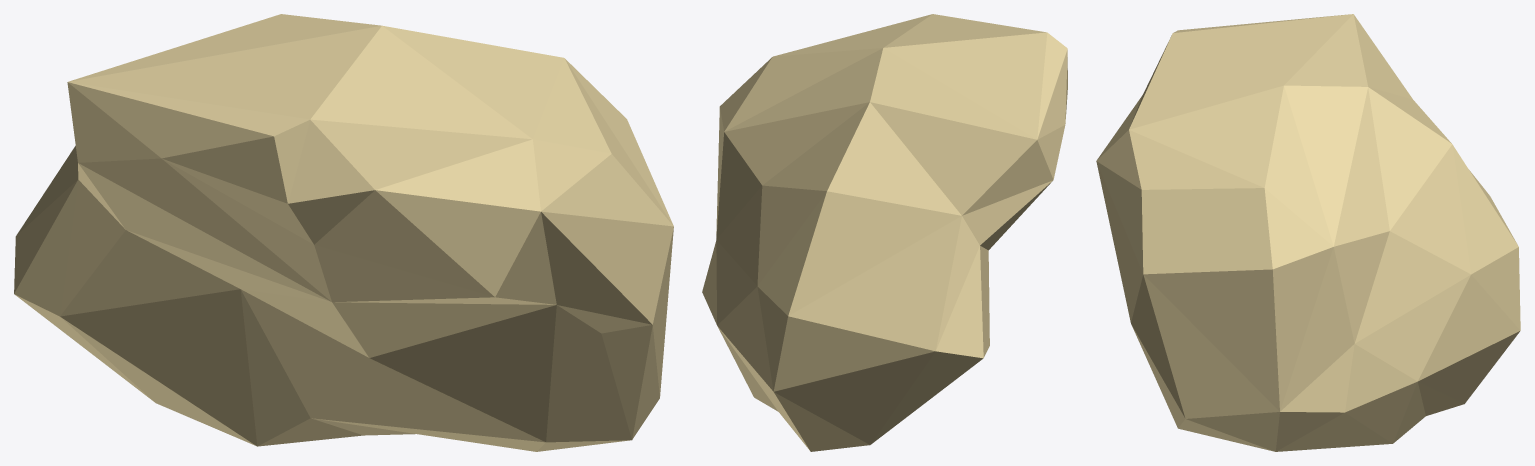
Rendered from Rock (24).fbx.
3 views of the same model, side by side, from view 1: azimuth 30°, elevation 25°; view 2: azimuth 150°, elevation 25°; view 3: azimuth 270°, elevation 25° (orthographic). The views are drawn at different scales.
Parts seen in each view (by area): view 1: Asteroid23; view 2: Asteroid23; view 3: Asteroid23.
Boxes of the visible parts, left/top/right/bottom form: Asteroid23: left=14, top=14, right=673, bottom=451; Asteroid23: left=702, top=14, right=1067, bottom=451; Asteroid23: left=1096, top=14, right=1520, bottom=451.
Bounding box in the file's own units: 180 × 162 × 185.
